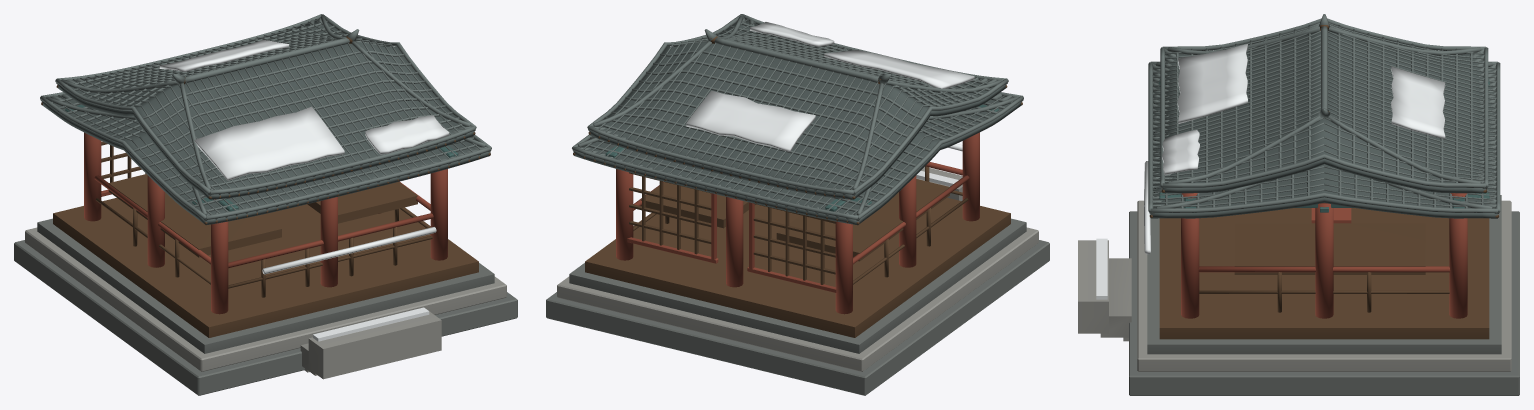
Rendered from about.glb.
3 renders of one model, left to right at view 1: azimuth 30°, elevation 25°; view 2: azimuth 150°, elevation 25°; view 3: azimuth 270°, elevation 25°, orthographic. The views are drawn at different scales.
Parts seen in each view (by area): view 1: about_building, snow_about_winter; view 2: about_building, snow_about_winter; view 3: about_building, snow_about_winter.
Boxes of the visible parts, left/top/right/bottom form: about_building: left=14, top=14, right=517, bottom=395; snow_about_winter: left=159, top=39, right=449, bottom=341; about_building: left=546, top=14, right=1049, bottom=395; snow_about_winter: left=686, top=22, right=974, bottom=186; about_building: left=1078, top=14, right=1519, bottom=395; snow_about_winter: left=1096, top=44, right=1445, bottom=299.
Size of the model in its own units: 5.54 by 3.94 by 6.26.
